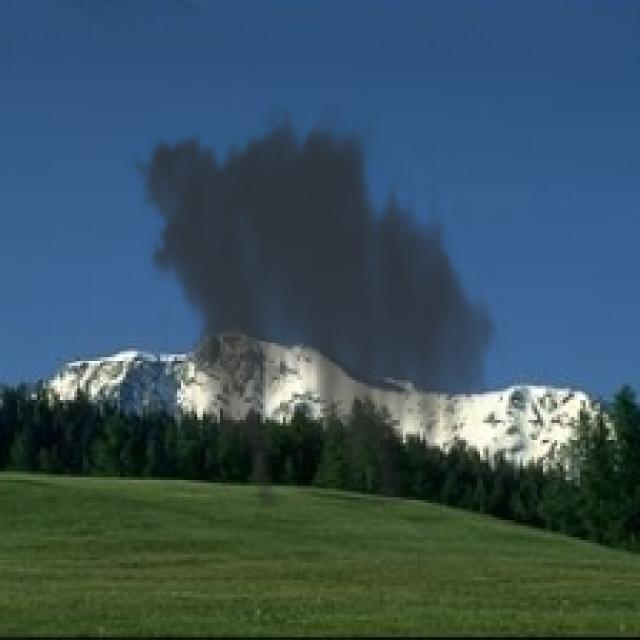Smoke: (122, 100, 508, 506)
